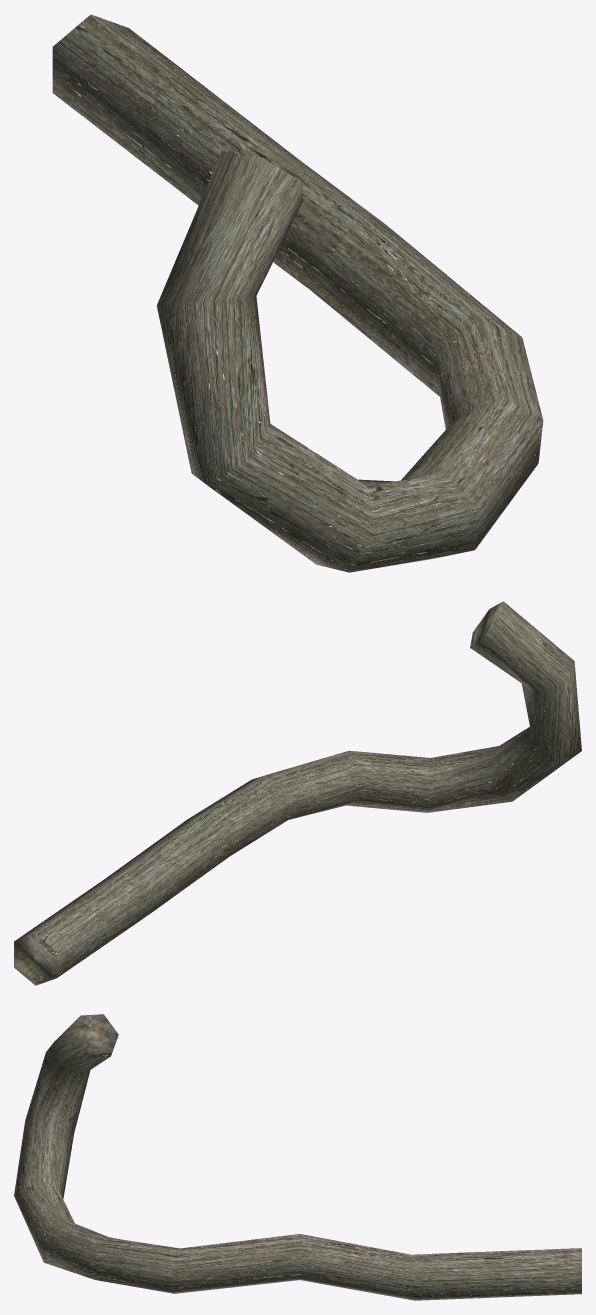
3 views of the same model, one above another, from view 1: azimuth 30°, elevation 25°; view 2: azimuth 150°, elevation 25°; view 3: azimuth 270°, elevation 25° (orthographic). The views are drawn at different scales.
Parts seen in each view (by area): view 1: SM_VineResource_LOD0; view 2: SM_VineResource_LOD0; view 3: SM_VineResource_LOD0.
Part boxes in pixels (x1,y1,x2,y2): SM_VineResource_LOD0: (52,14,543,572); SM_VineResource_LOD0: (14,601,581,985); SM_VineResource_LOD0: (14,1014,581,1300).
Size of the model in its own units: 0.3812 by 0.3224 by 0.7792.
1 material, 1 textured.
